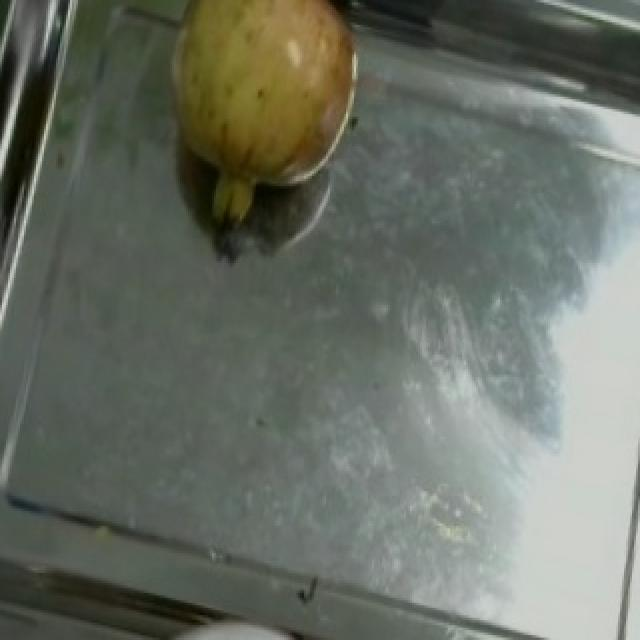fruit: (138, 0, 390, 223)
